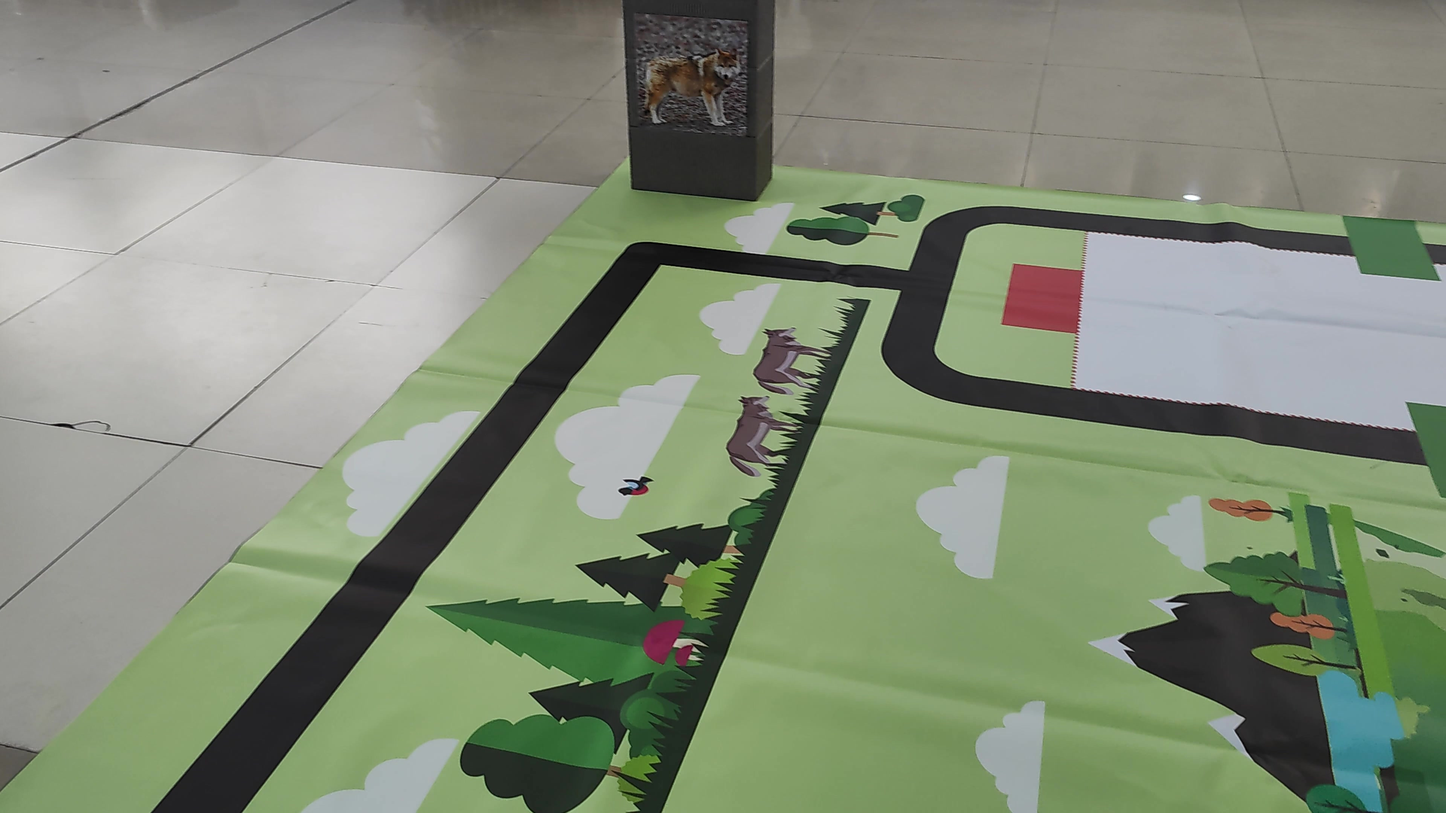wolf: (643, 28, 740, 137)
